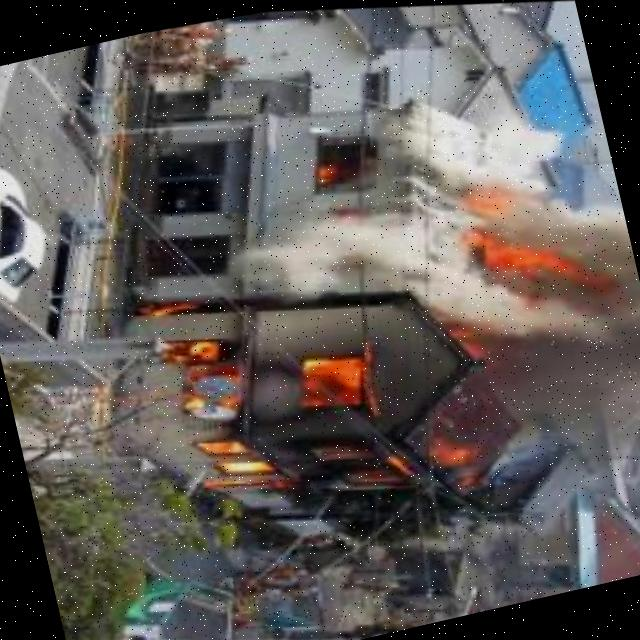fire: (112, 253, 508, 550), (450, 156, 590, 300), (314, 150, 346, 186)
